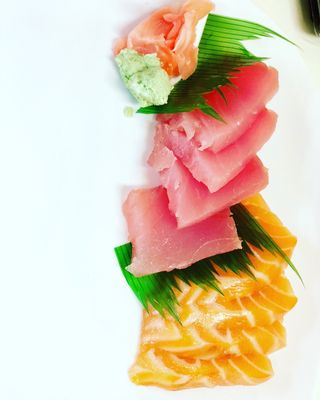pizza: (108, 1, 310, 396)
